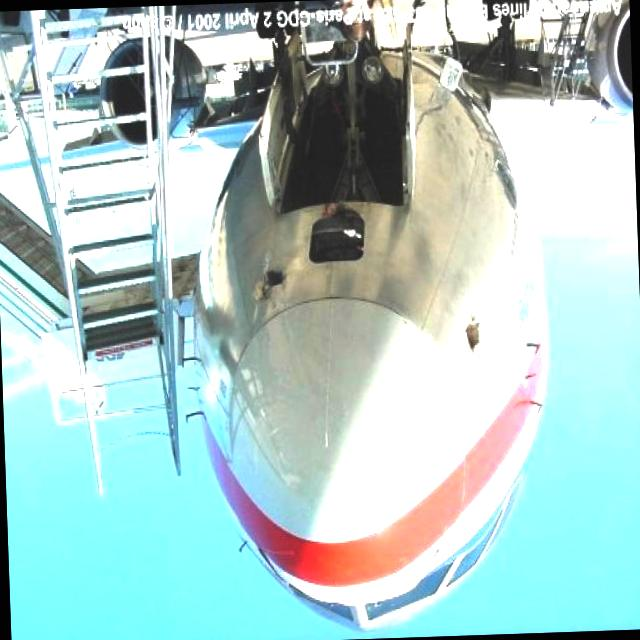dent: (247, 264, 289, 304), (460, 321, 488, 355)
